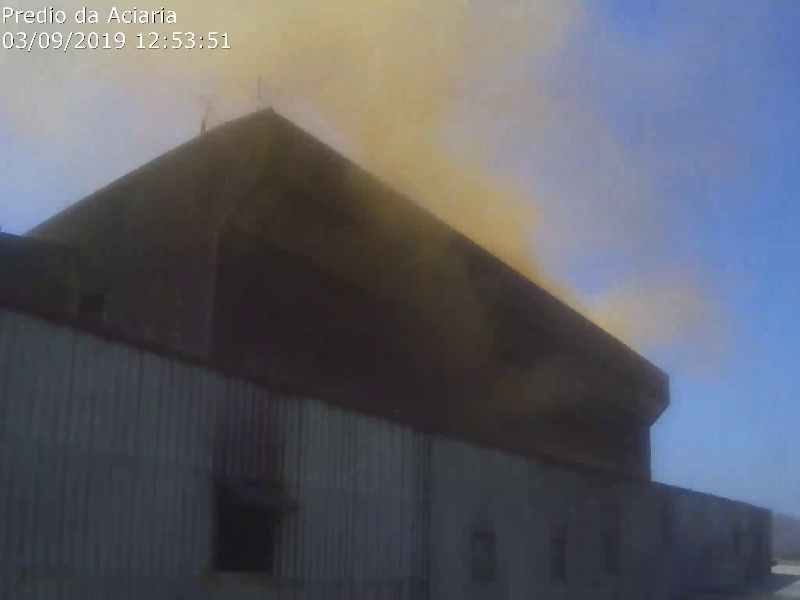pessimo: (179, 13, 724, 412)
